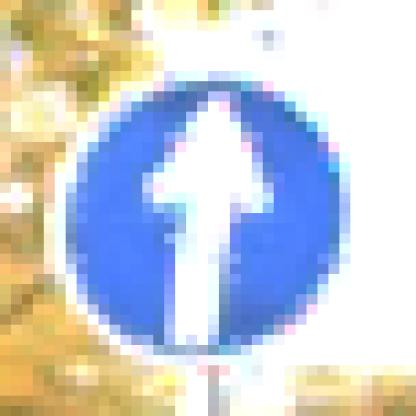AheadOnly: (56, 62, 362, 366)
